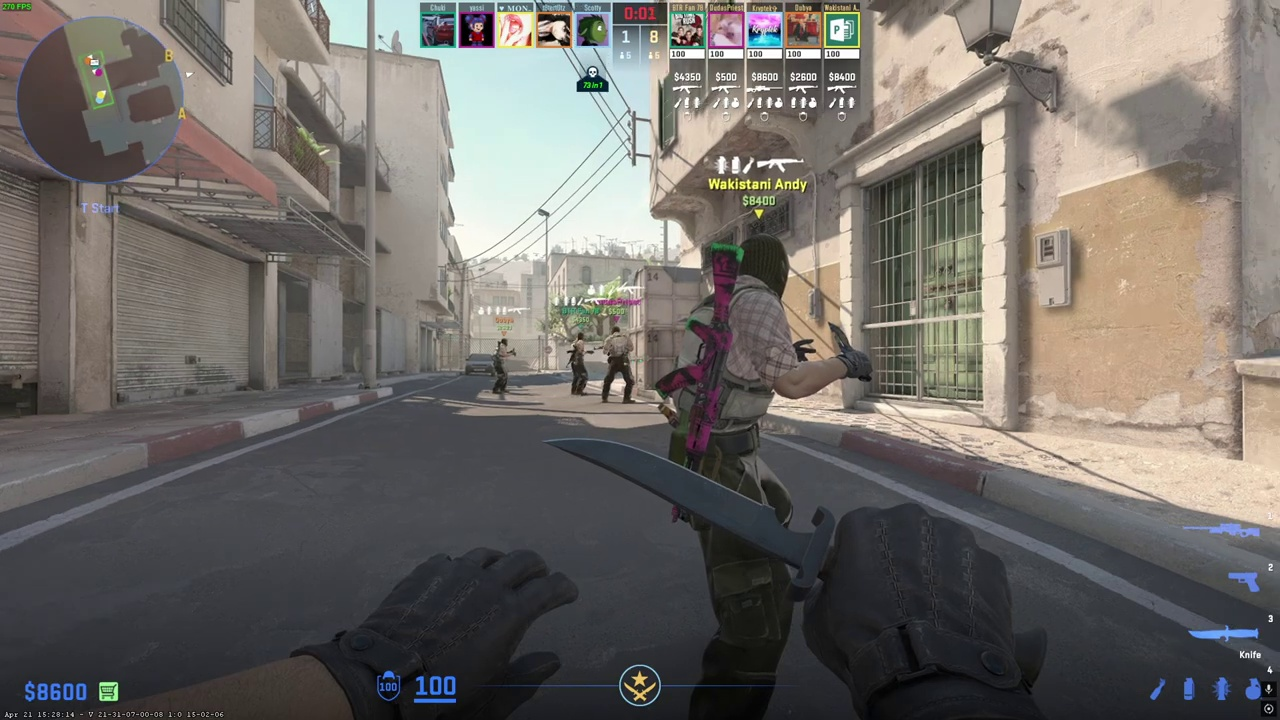Terrorist: (665, 233, 809, 718), (602, 326, 635, 404), (569, 332, 590, 396), (491, 338, 511, 395)
